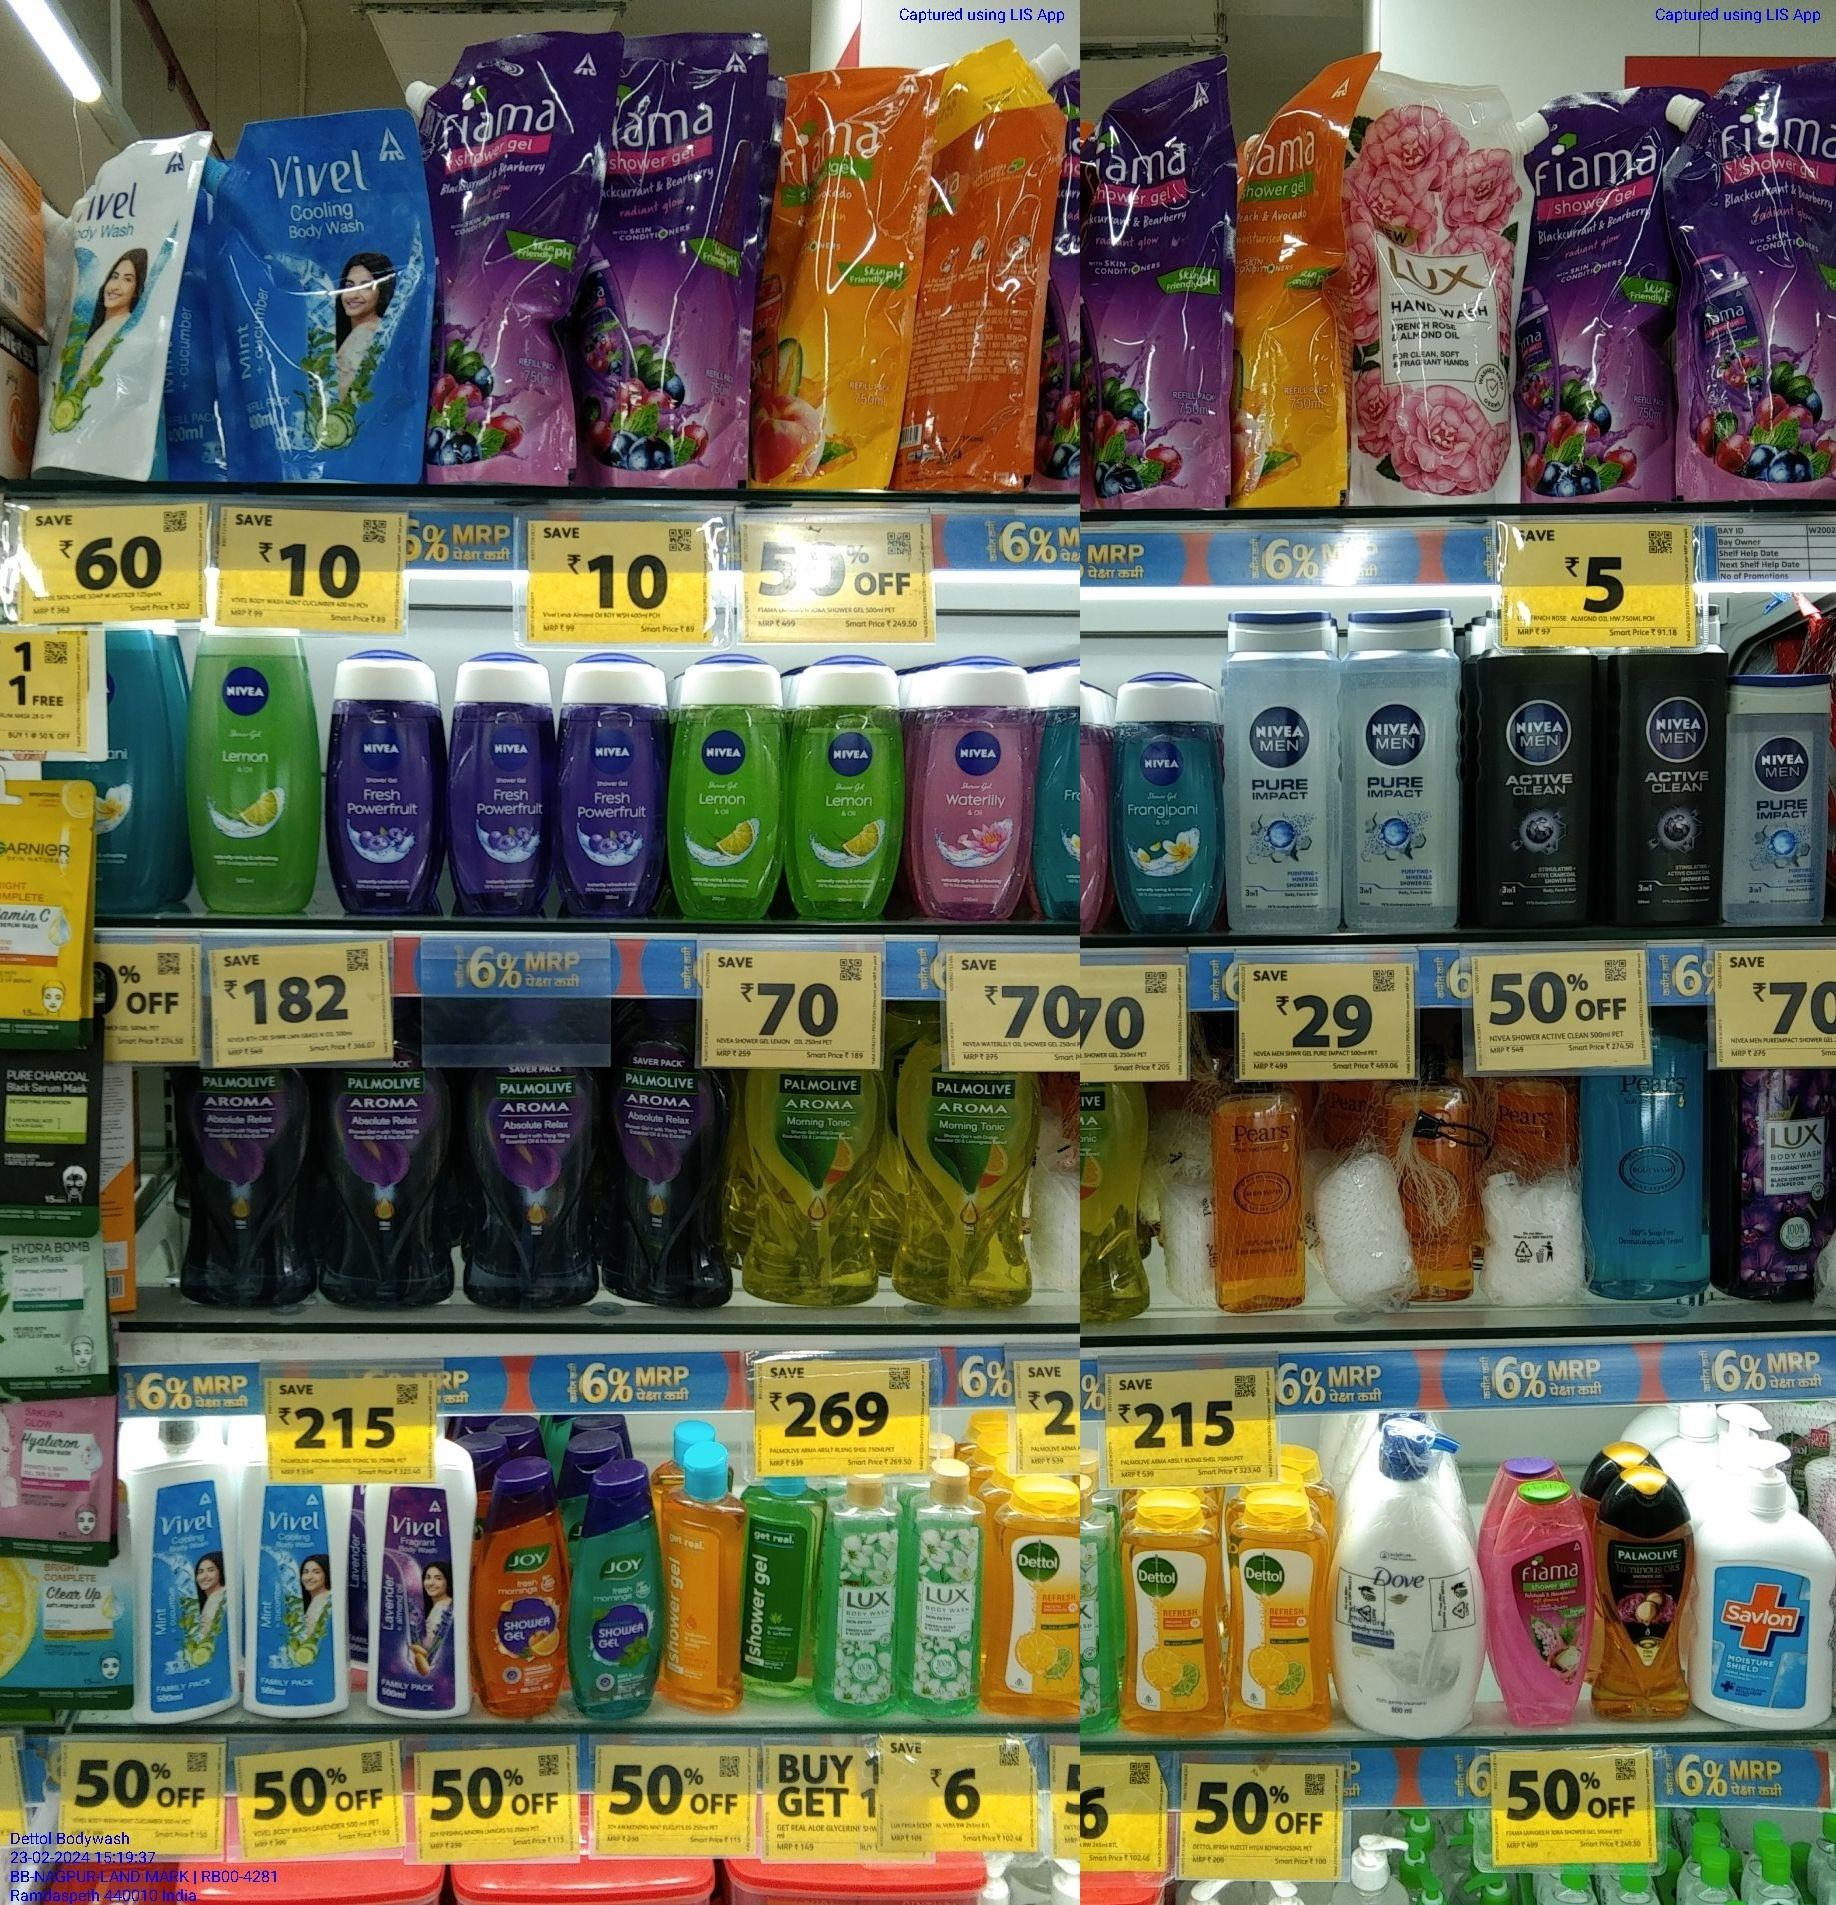Dettol_Bodywash_Refresh: (1118, 1500, 1223, 1738), (1234, 1497, 1336, 1730)
Fiama_Shower_Gel_Patchouli_and_Macadamia_250ML: (1489, 1492, 1589, 1728)
Joy_Shower_Gel_Mandarin_and_Lemongrass_250ML: (475, 1476, 565, 1720)
Joy_Shower_Gel_Mint_and_Eucalyptus_250ML: (572, 1480, 664, 1718)
Lux_Body_Wash_Skin_Detox_Freesia_Scent_and_Alove_Vera_245ML: (820, 1478, 898, 1716), (907, 1475, 982, 1716)
Nivea_Shower_Gel_Frangipani_and_Oil_250ML: (1109, 685, 1223, 934)
Nivea_Shower_Gel_Fresh_Powerfruit_250ML: (330, 660, 442, 918), (555, 663, 669, 913), (448, 667, 551, 915)
Nivea_Shower_Gel_Lemon_and_Oil_250ML: (189, 626, 322, 913), (788, 668, 907, 917), (674, 665, 783, 915)
Nivea_Shower_Gel_Waterlily_and_Oil_250ML: (914, 670, 1031, 922)
Palmolive_Luminous_Oils_Invigorating_Macadamia_Oil_With_Peony_250ML: (1594, 1481, 1695, 1718)
